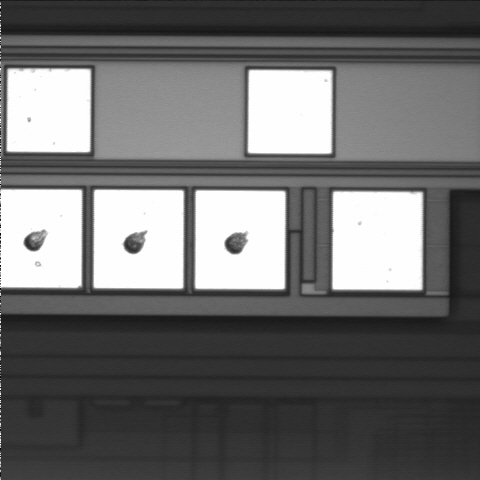pad: (94, 190, 184, 289), (195, 190, 285, 289), (333, 192, 422, 290), (248, 70, 332, 154), (7, 69, 91, 152)
